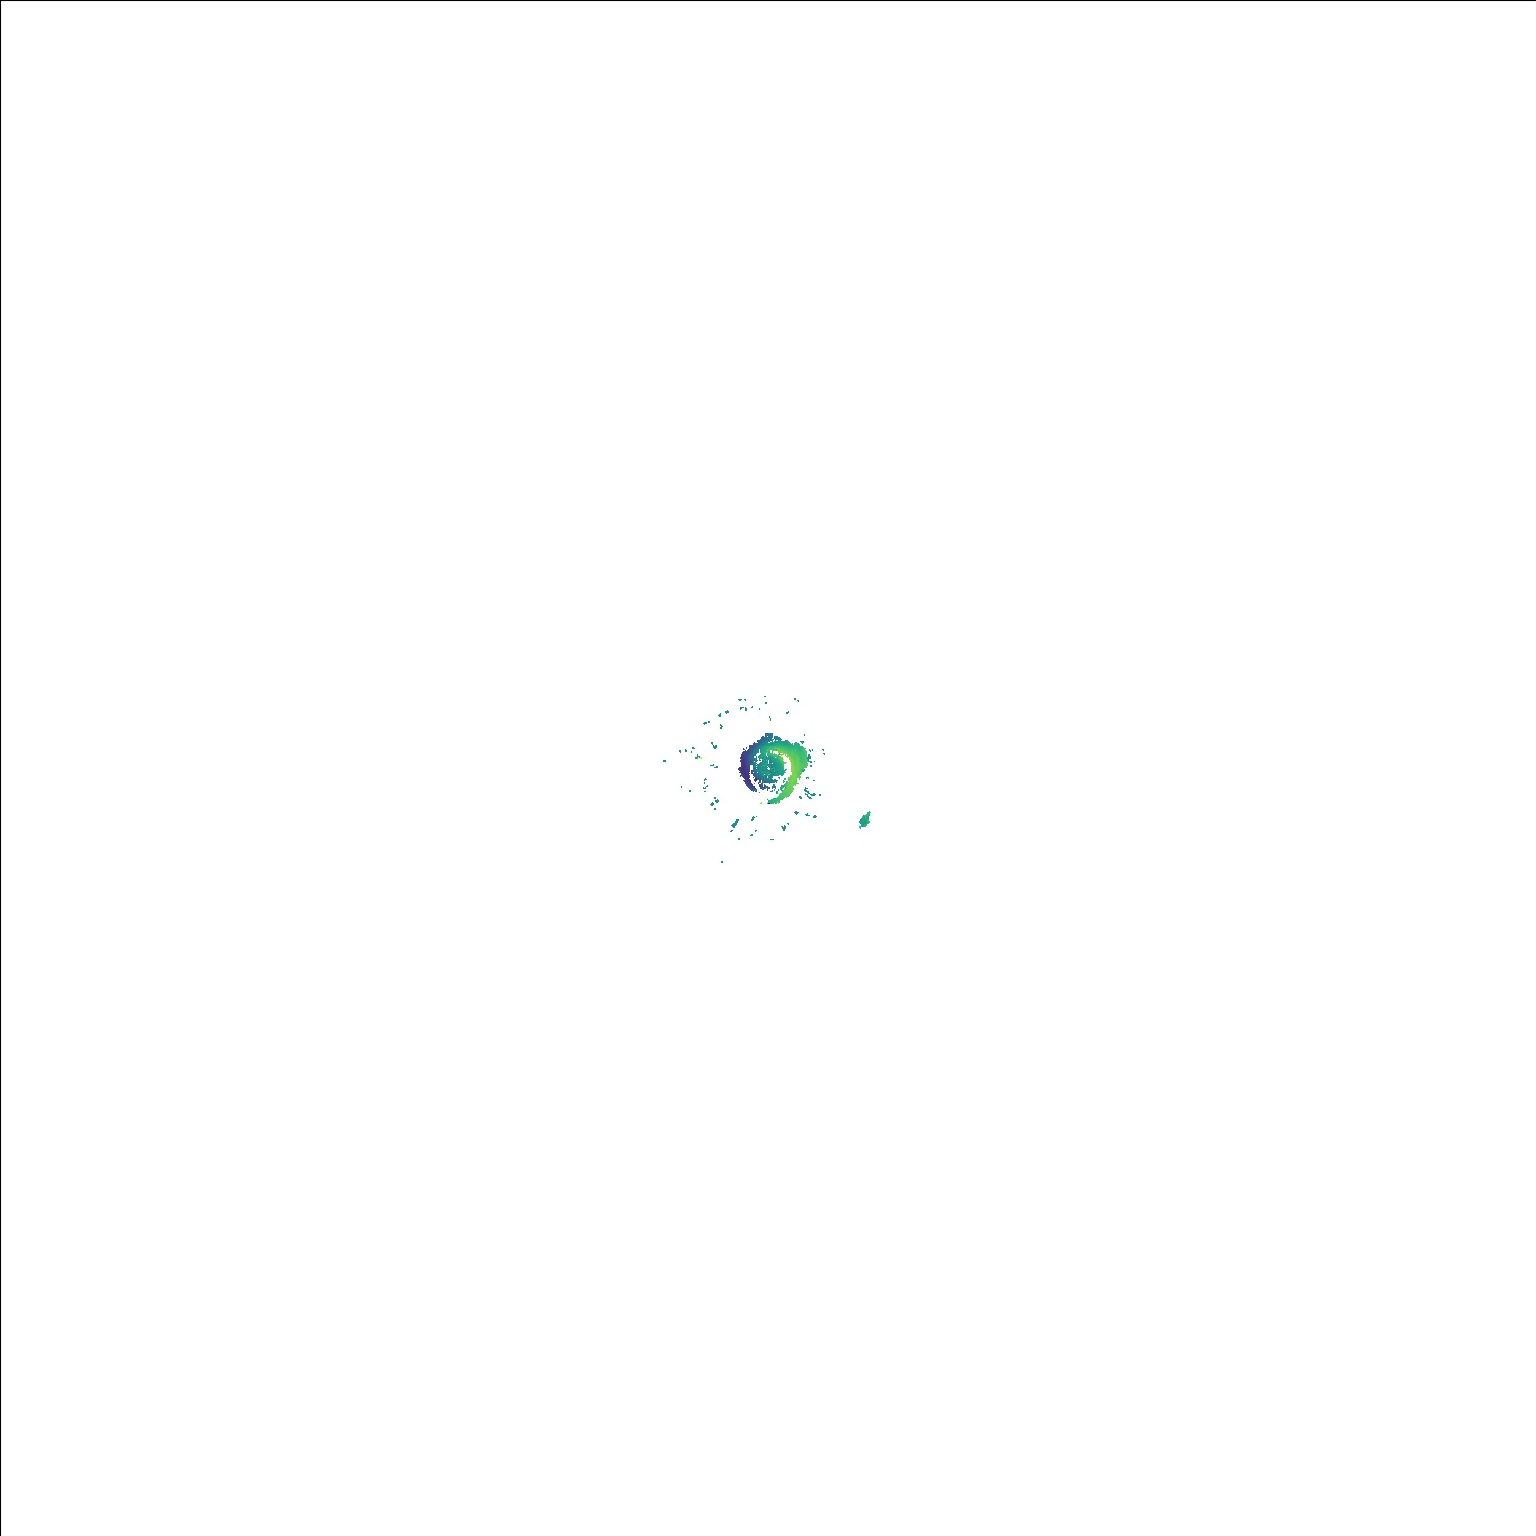fall: (857, 807, 873, 833)
